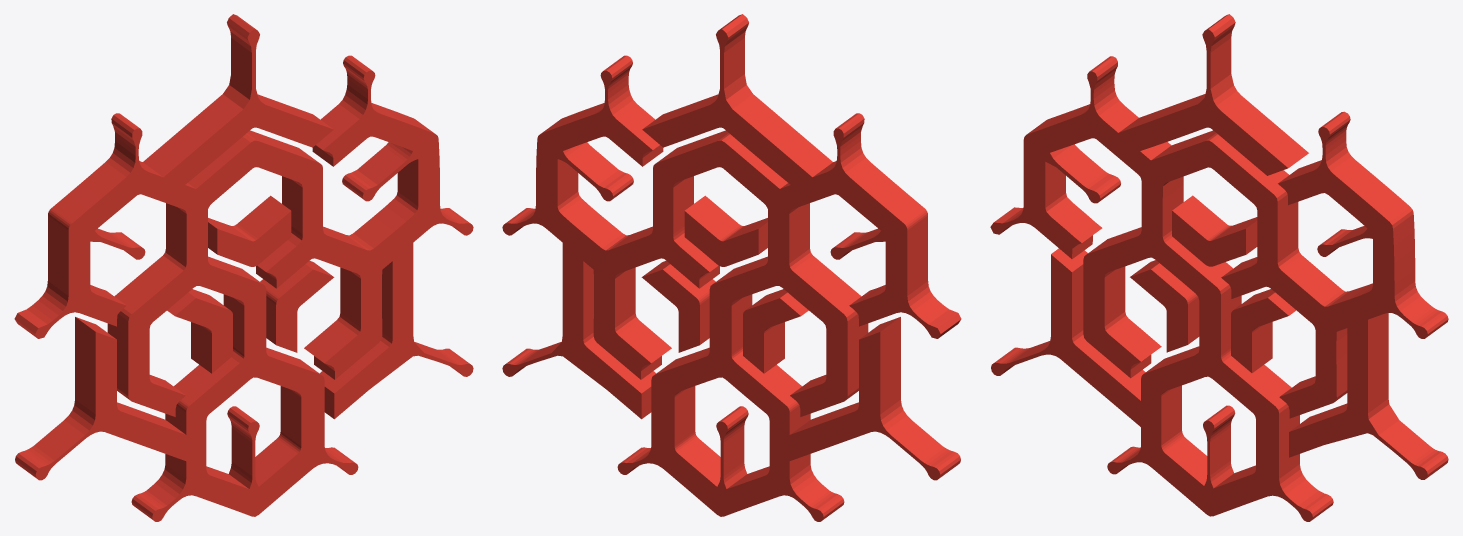
The model's file is GRAF_3_20.glb.
The picture shows the model from 3 angles, left to right: view 1: azimuth 30°, elevation 25°; view 2: azimuth 150°, elevation 25°; view 3: azimuth 330°, elevation 25°; orthographic projection.
Visible parts, largest first — view 1: Curve.008; view 2: Curve.008; view 3: Curve.008.
Boxes of the visible parts, box(x1,y1,x2,y2) form: Curve.008: box(14, 14, 473, 521); Curve.008: box(502, 14, 961, 521); Curve.008: box(990, 14, 1448, 521).
Bounding box in the file's own units: 3.45 × 3.67 × 0.2832.
